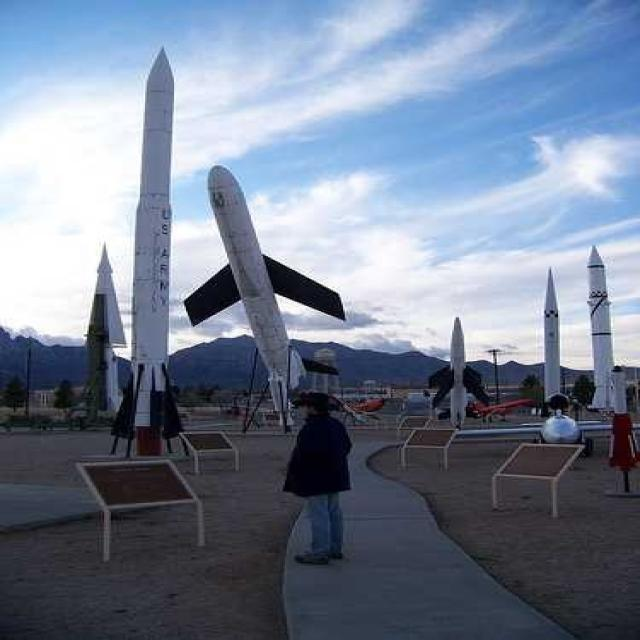missile: (183, 162, 352, 419), (120, 53, 182, 443), (58, 251, 140, 424), (584, 253, 636, 432), (441, 315, 478, 429), (538, 261, 563, 408)
